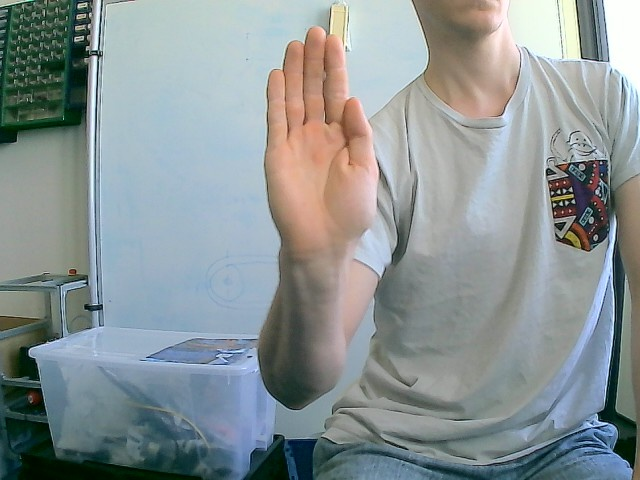stop: (262, 25, 381, 254)
